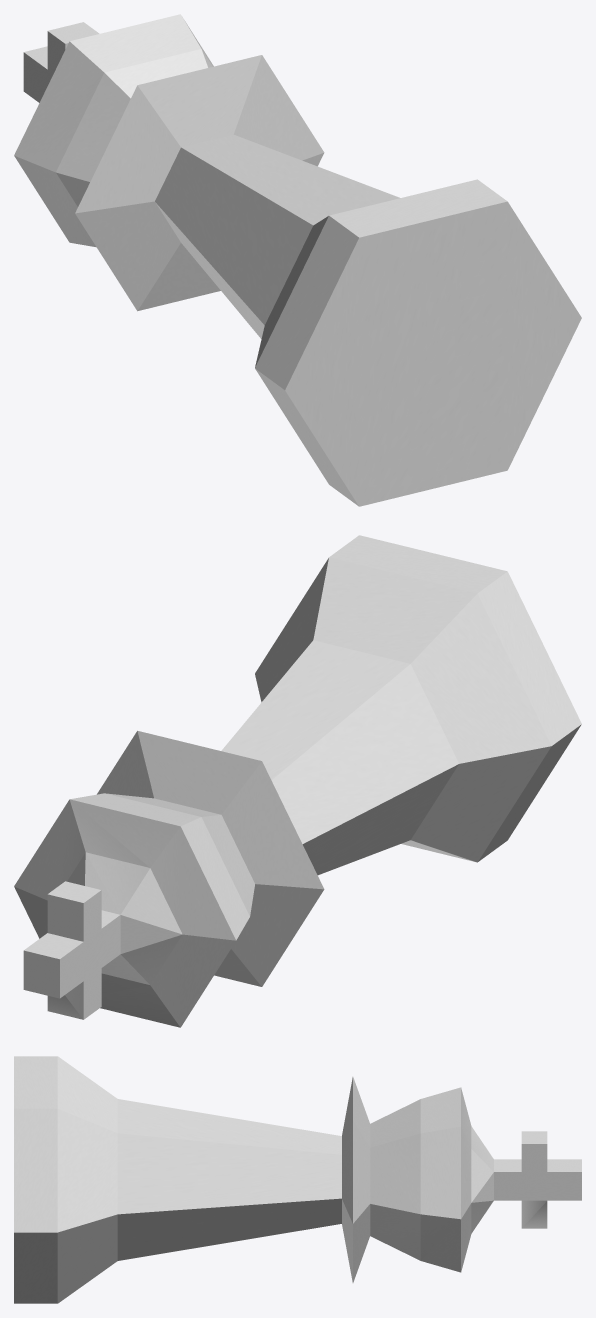
Rendered from statue_symbol_chess_white_1.FBX.
The picture shows the model from 3 angles, top to bottom: view 1: azimuth 30°, elevation 25°; view 2: azimuth 150°, elevation 25°; view 3: azimuth 270°, elevation 25°; orthographic projection. The views are drawn at different scales.
Parts seen in each view (by area): view 1: acc_2; view 2: acc_2; view 3: acc_2.
Boxes of the visible parts, x1,y1,x2,y2 form: acc_2: (14, 14, 581, 506); acc_2: (14, 535, 581, 1027); acc_2: (14, 1056, 581, 1303).
Size of the model in its own units: 149 by 129 by 341.
